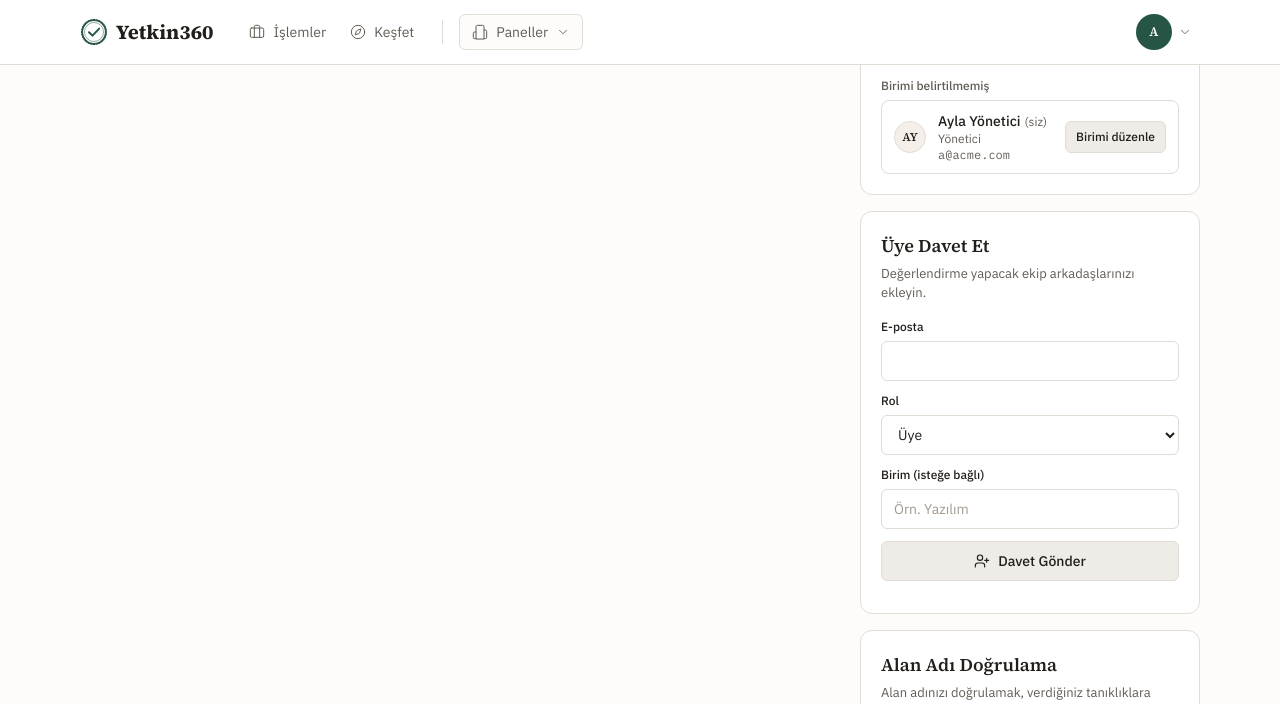
Scenario: KurulusPanelPage (/kurulus/[id]/panel) › Üye davet bölümü › happy path: birim boşsa birimsiz davet edilir, başarı mesajı gösterilir
This screenshot has width=1280, height=704.
(page scrolled)
Type "yeni-uye@test.com" into the field labelled "E-posta". click: (1030, 360)
box: 881,340 -> 1179,380
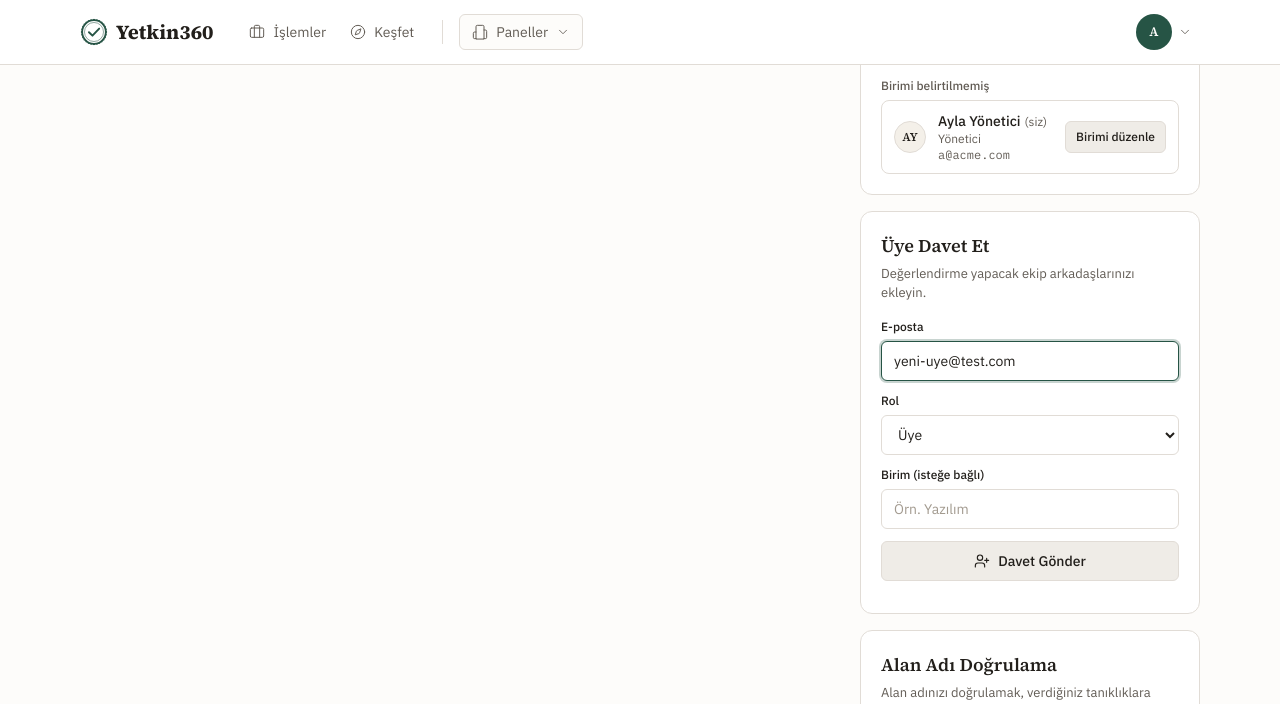
Click the button "Davet Gönder". click: (1030, 560)
box: 881,540 -> 1179,580
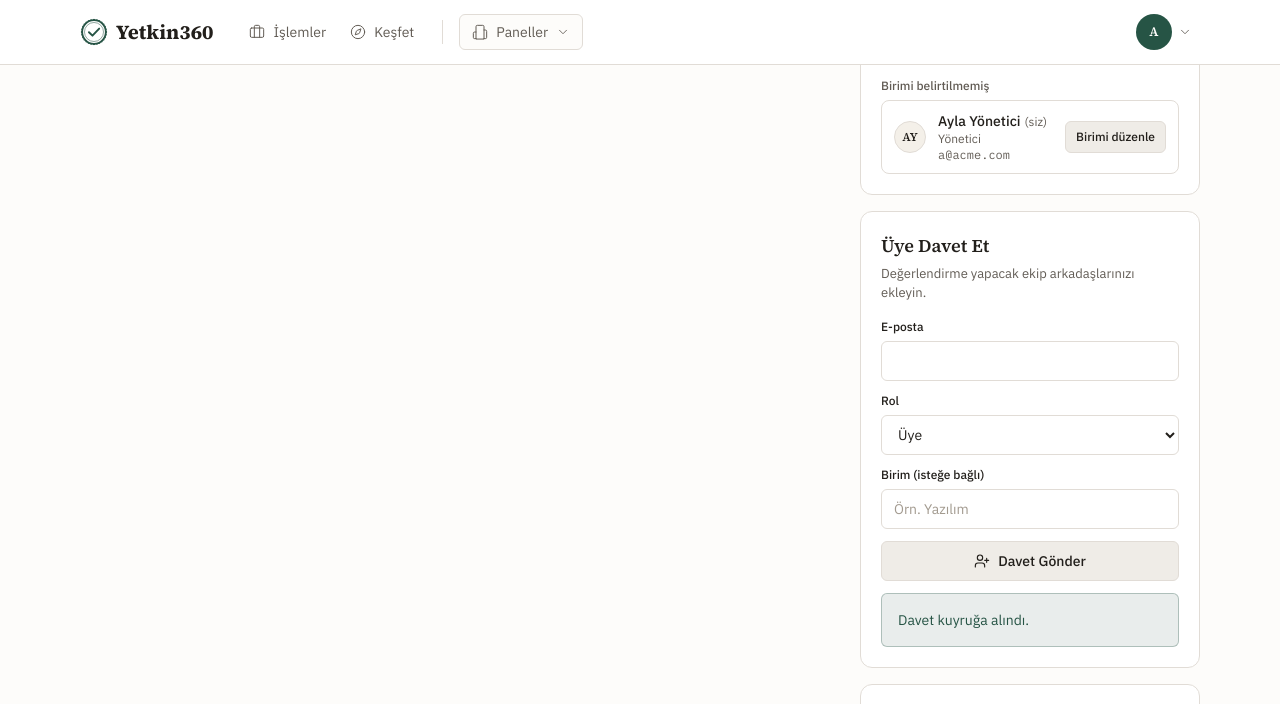
Now the text "Davet kuyruğa alındı." is shown, box 881,592 -> 1179,646
